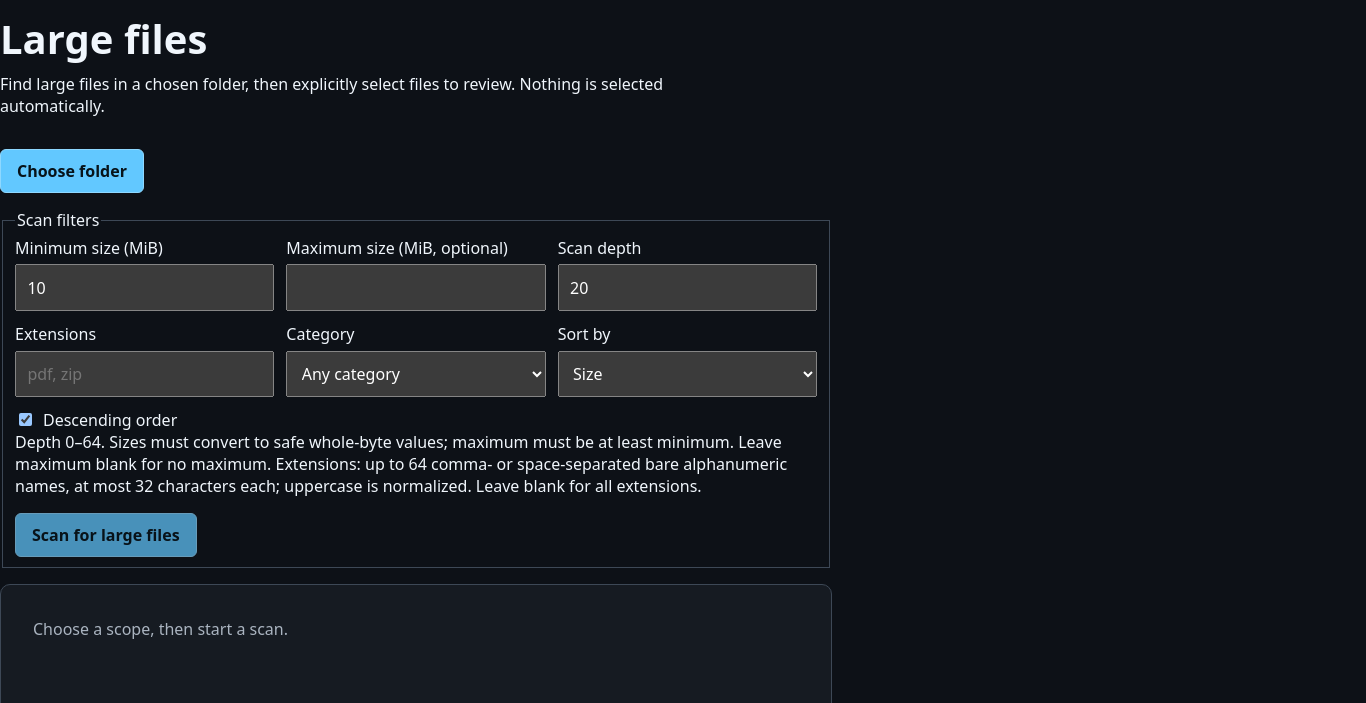
it: never auto-selects and reviews immutable native candidate IDs without executing
Click the button "Choose folder" at (72, 171), box [0,149,144,193]
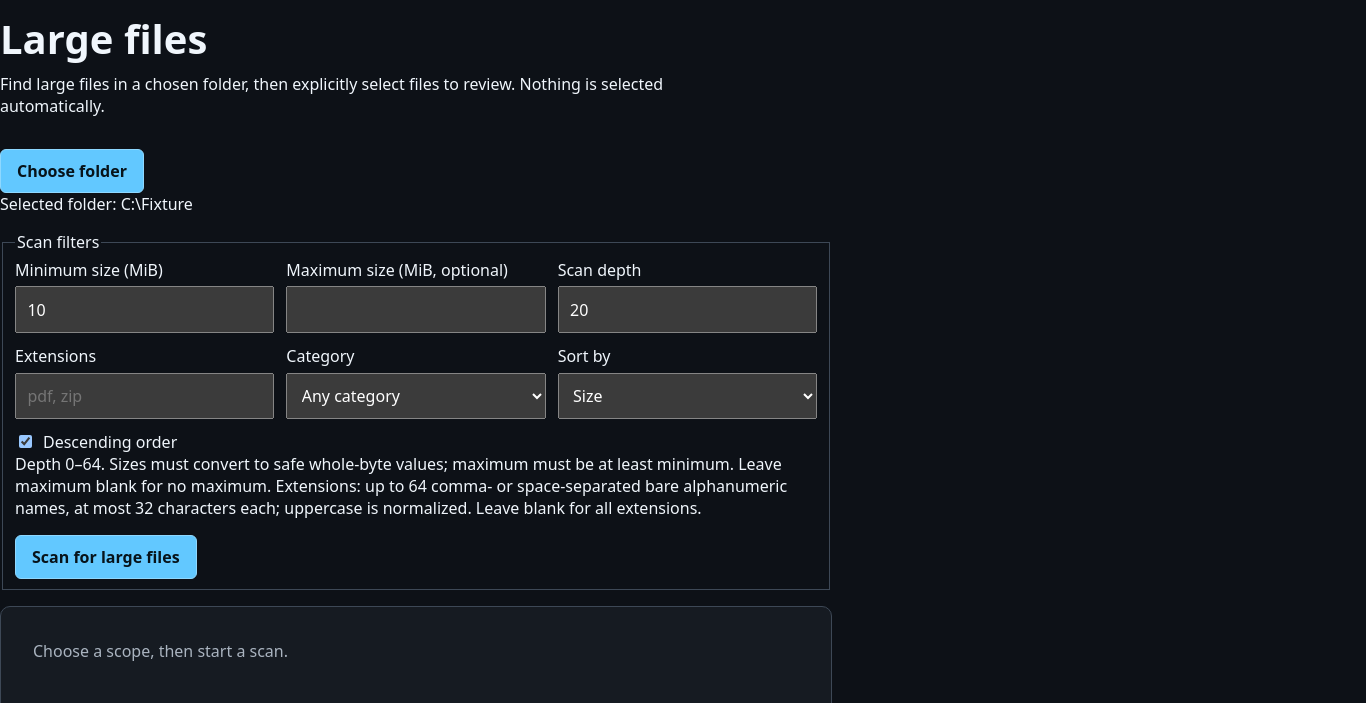
Expected: the button "Scan for large files" is enabled
Click the button "Scan for large files" at (106, 557), box [15,535,197,579]
(page scrolled)
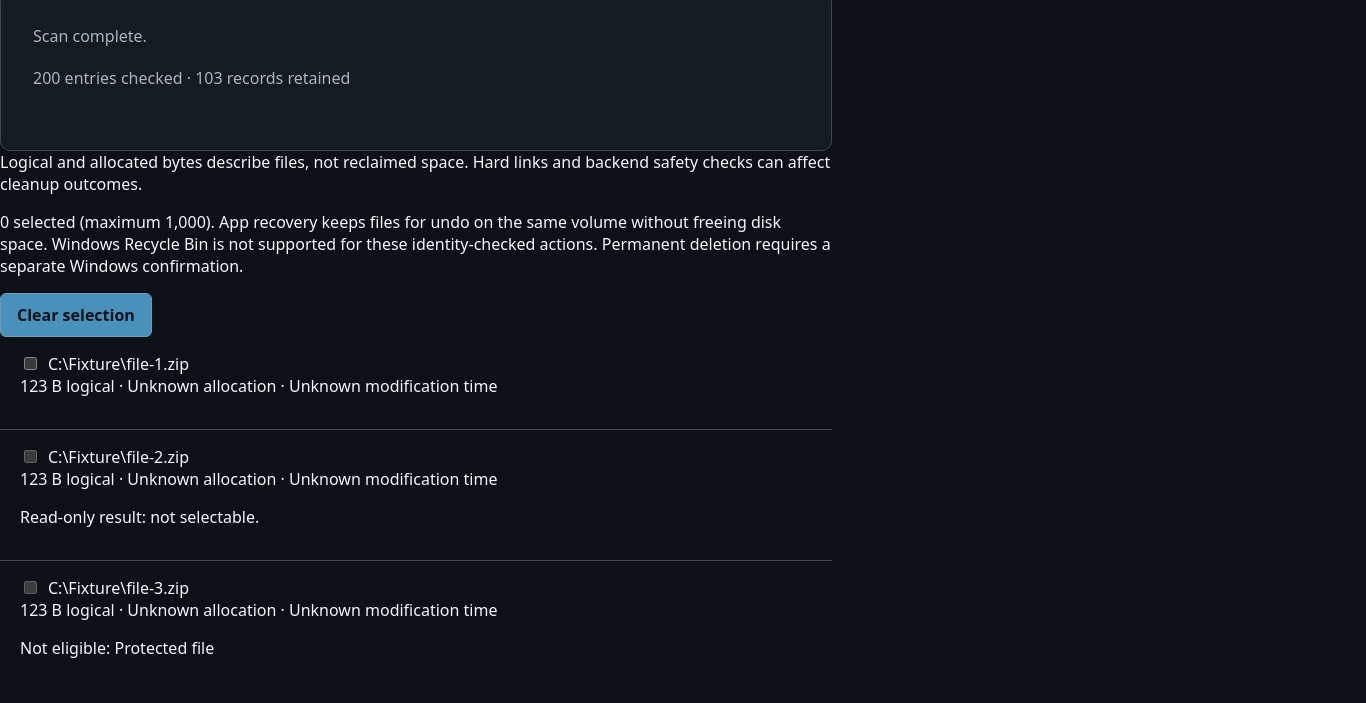
Expected: the list named "Large file results" is shown, [0,337,832,691]
Expected: the text "Unknown allocation" is shown 3 times, [20,375,497,397]; [20,468,497,490]; [20,599,497,621]
Click the checkbox labelled "C:\\Fixture\\file-1.zip" at (30, 364), box [24,357,37,370]
(page scrolled)
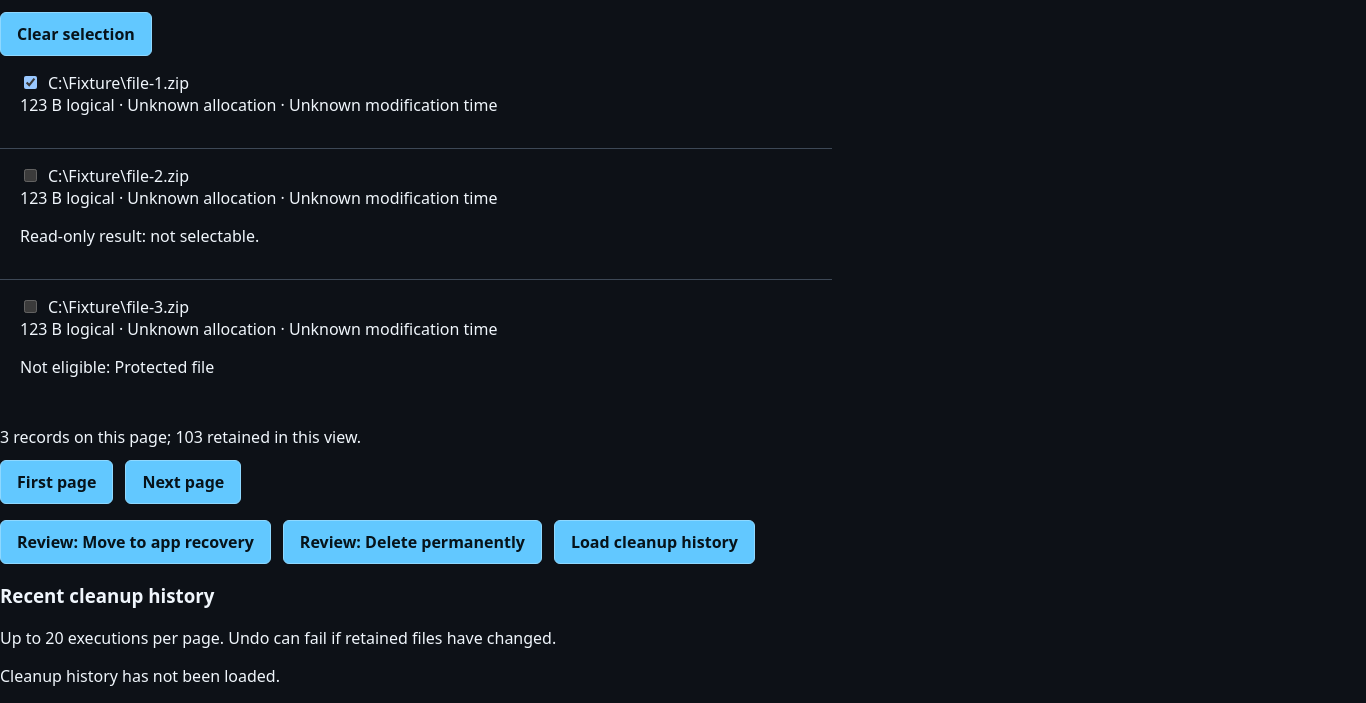
Click the button "Review: Move to app recovery" at (135, 542), box [0,520,271,564]
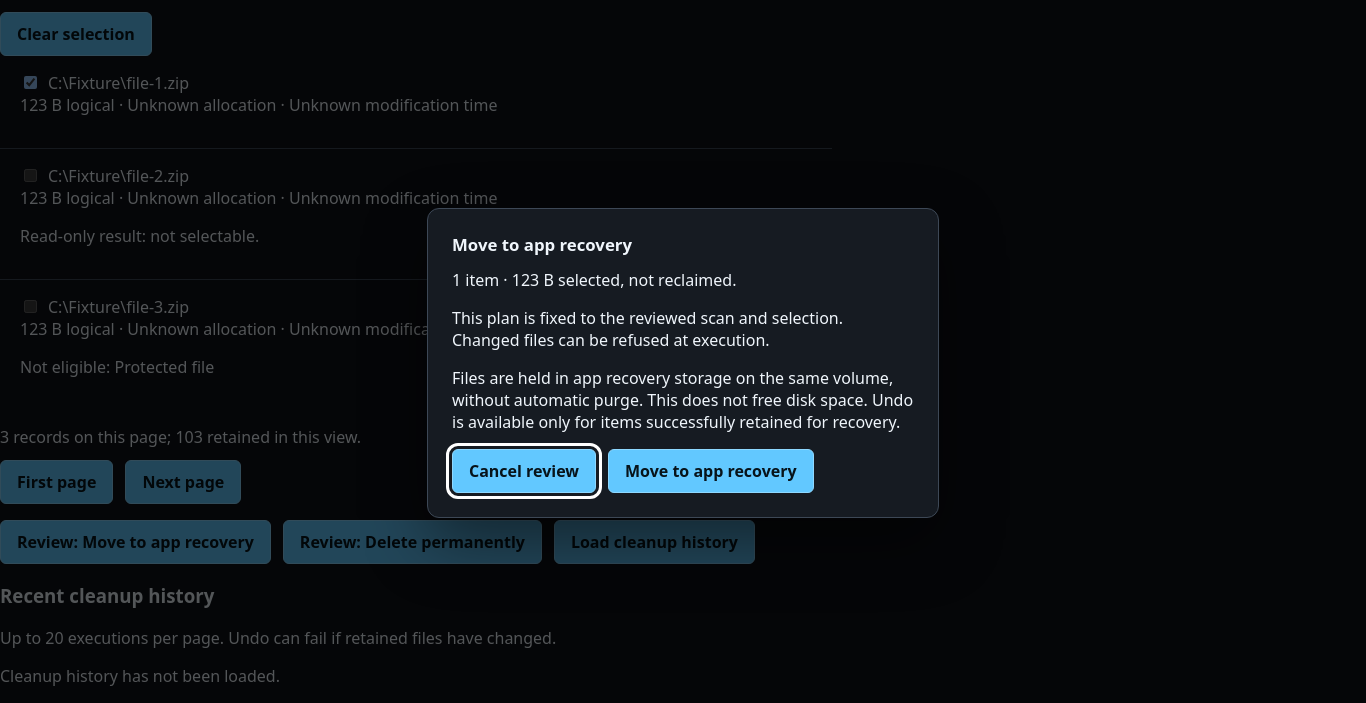
Expected: the dialog "Move to app recovery" is shown, [427,208,939,518]
Expected: the text "1 item · 123 B selected, not reclaimed." is shown, [452,270,736,292]
Click the button "Cancel review" at (524, 472), box [452,450,596,494]
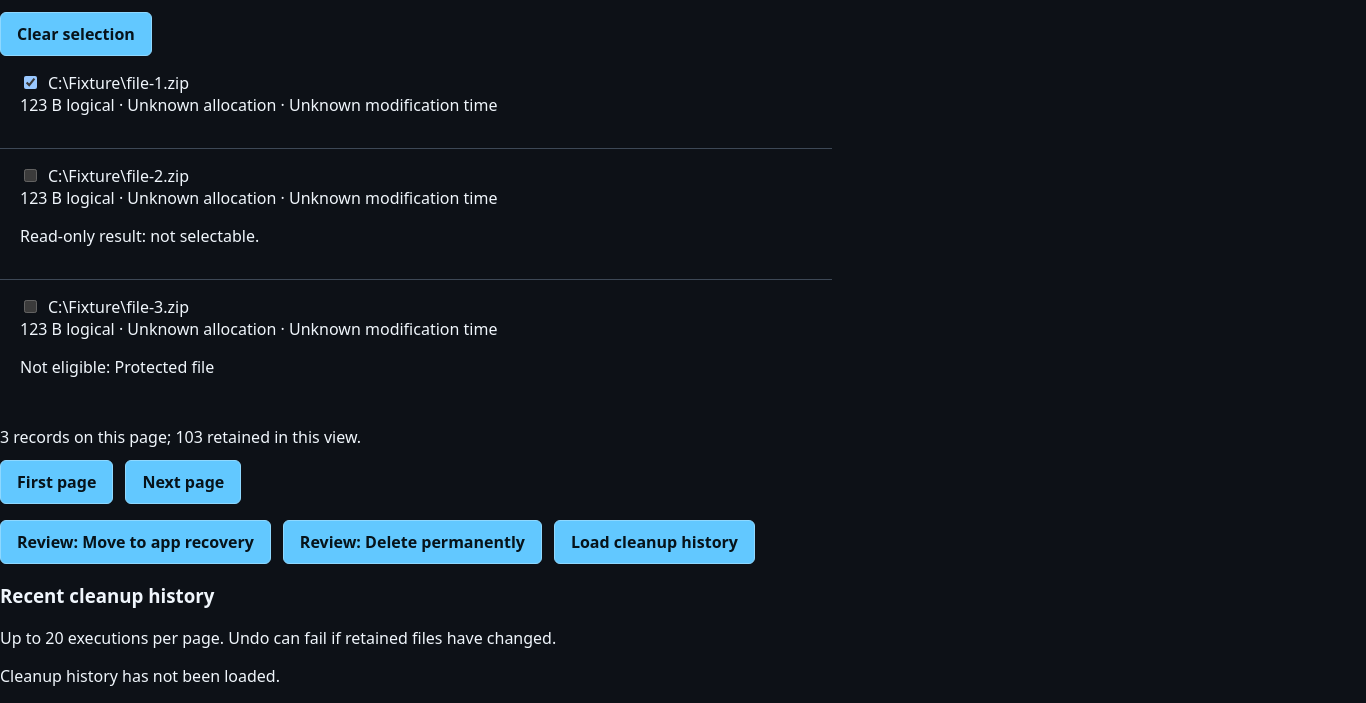
Expected: the dialog is gone
